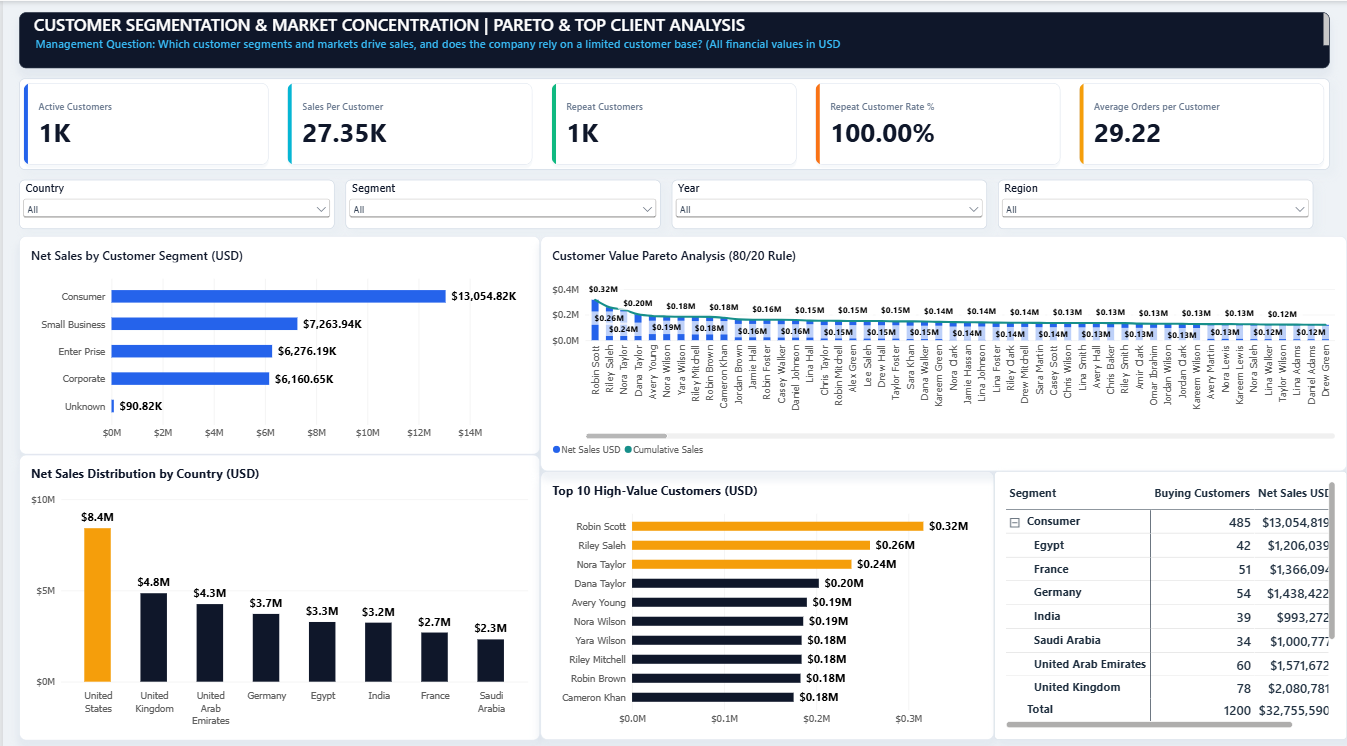

Layout of this report page (visuals, bound fields, positions):
{"tool":"powerbi","page":{"name":" Customers & Segments","canvas":[1920,1080],"ordinal":2},"visuals":[{"type":"textbox","box":[24,16,1872,80],"z":0},{"type":"cardVisual","fields":{"Data":["_All Measures.Buying Customers","_All Measures.Sales per Buying Customer","_All Measures.Repeat Customers","_All Measures.Repeat Customer Rate %","_All Measures.Average Orders per Customer"]},"box":[24,110,1872,130],"z":1000},{"type":"slicer","fields":{"Values":["Dim_Customers.Country"]},"box":[24,256,450,70],"z":2000},{"type":"slicer","fields":{"Values":["Dim_Customers.Segment"]},"box":[490,256,450,70],"z":3000},{"type":"slicer","fields":{"Values":["Dim_Date.Year"]},"box":[956,256,450,70],"z":4000},{"type":"slicer","fields":{"Values":["Dim_Branches.Region"]},"box":[1422,256,450,70],"z":5000},{"type":"clusteredBarChart","title":"Net Sales by Customer Segment (USD)","fields":{"Category":["Dim_Customers.Segment"],"Y":["_All Measures.Net Sales USD"]},"box":[24,336,744,312],"z":5001},{"type":"clusteredColumnChart","title":"Net Sales Distribution by Country (USD)","fields":{"Category":["Dim_Customers.Country"],"Y":["_All Measures.Net Sales USD"]},"box":[24,648,744,408],"z":5003},{"type":"clusteredBarChart","title":"Top 10 High-Value Customers (USD)","fields":{"Category":["Dim_Customers.CustomerName"],"Y":["_All Measures.Net Sales USD"]},"box":[768,672,648,384],"z":5004},{"type":"lineClusteredColumnComboChart","title":"Customer Value Pareto Analysis (80/20 Rule)","fields":{"Category":["Dim_Customers.CustomerName"],"Y":["_All Measures.Net Sales USD"],"Y2":["_All Measures.Cumulative Sales"]},"box":[768,336,1152,336],"z":5005},{"type":"pivotTable","title":"Segment & Market Performance Matrix","fields":{"Rows":["Dim_Customers.Segment","Dim_Customers.Country"],"Values":["_All Measures.Buying Customers","_All Measures.Net Sales USD"]},"box":[1416,672,504,384],"z":5006}]}

Visuals, with their boxes in screenshot pixels (x1, y1, x2, y2), scaled from the page's 1920x1080 canvas onto the 1347x746 screenshot:
textbox: crop(17, 11, 1330, 66)
cardVisual - _All Measures.Buying Customers x _All Measures.Sales per Buying Customer: crop(17, 76, 1330, 166)
slicer - Dim_Customers.Country: crop(17, 177, 333, 225)
slicer - Dim_Customers.Segment: crop(344, 177, 659, 225)
slicer - Dim_Date.Year: crop(671, 177, 986, 225)
slicer - Dim_Branches.Region: crop(998, 177, 1313, 225)
"Net Sales by Customer Segment (USD)" clusteredBarChart: crop(17, 232, 539, 448)
"Net Sales Distribution by Country (USD)" clusteredColumnChart: crop(17, 448, 539, 729)
"Top 10 High-Value Customers (USD)" clusteredBarChart: crop(539, 464, 993, 729)
"Customer Value Pareto Analysis (80/20 Rule)" lineClusteredColumnComboChart: crop(539, 232, 1346, 464)
"Segment & Market Performance Matrix" pivotTable: crop(993, 464, 1346, 729)
